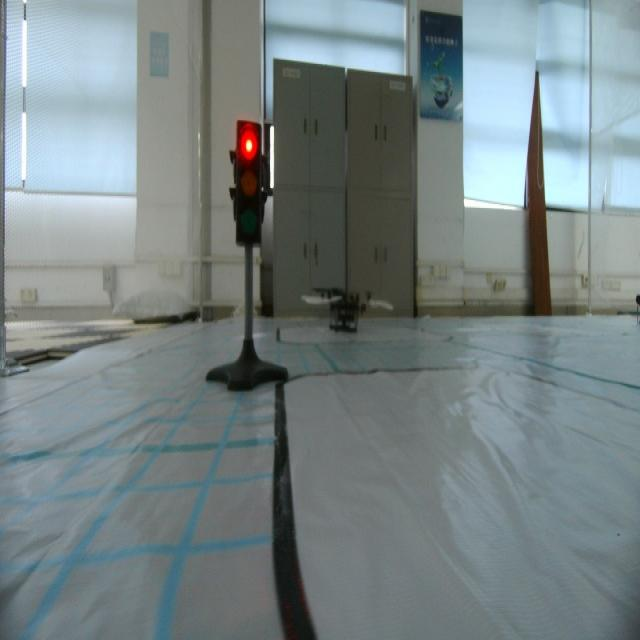red: (229, 117, 269, 252)
